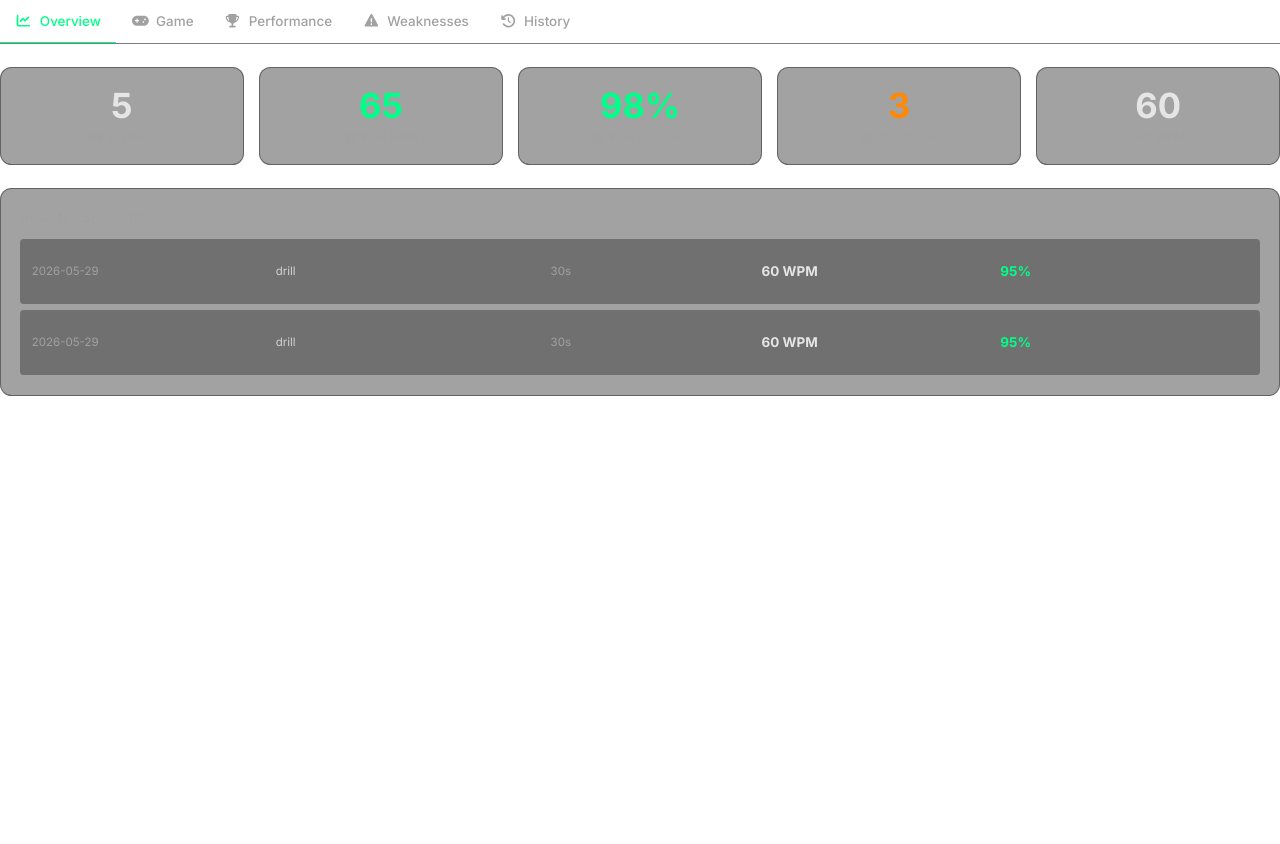
StatsTabs — panel content per tab › should show NemesisCard in Gamification only when errorHeatmap is non-empty
Note: When the user opens Gamification
Step 1. Click the tab "Game" → (163, 22), box [116,0,209,44]
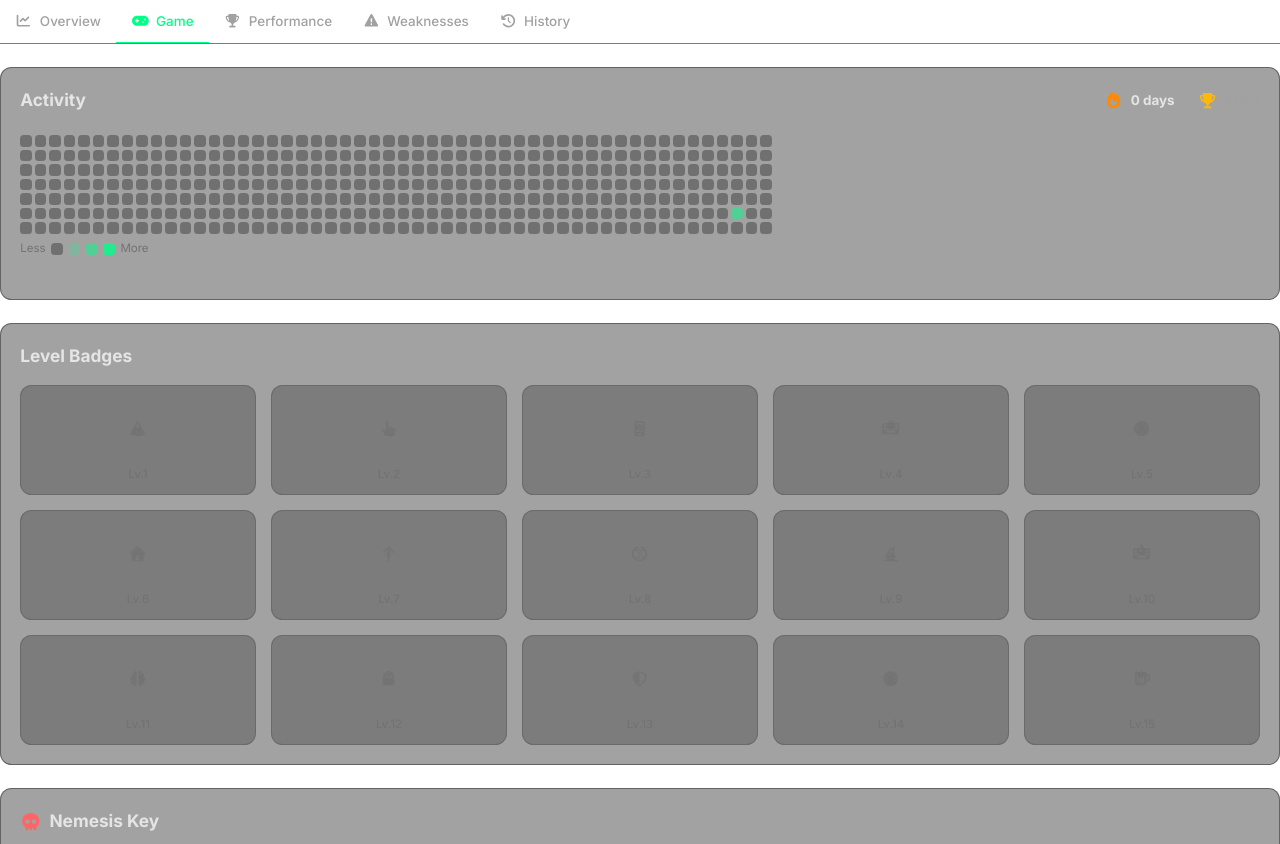
Check: the heading "Nemesis Key" is shown, box [20,810,159,831]
